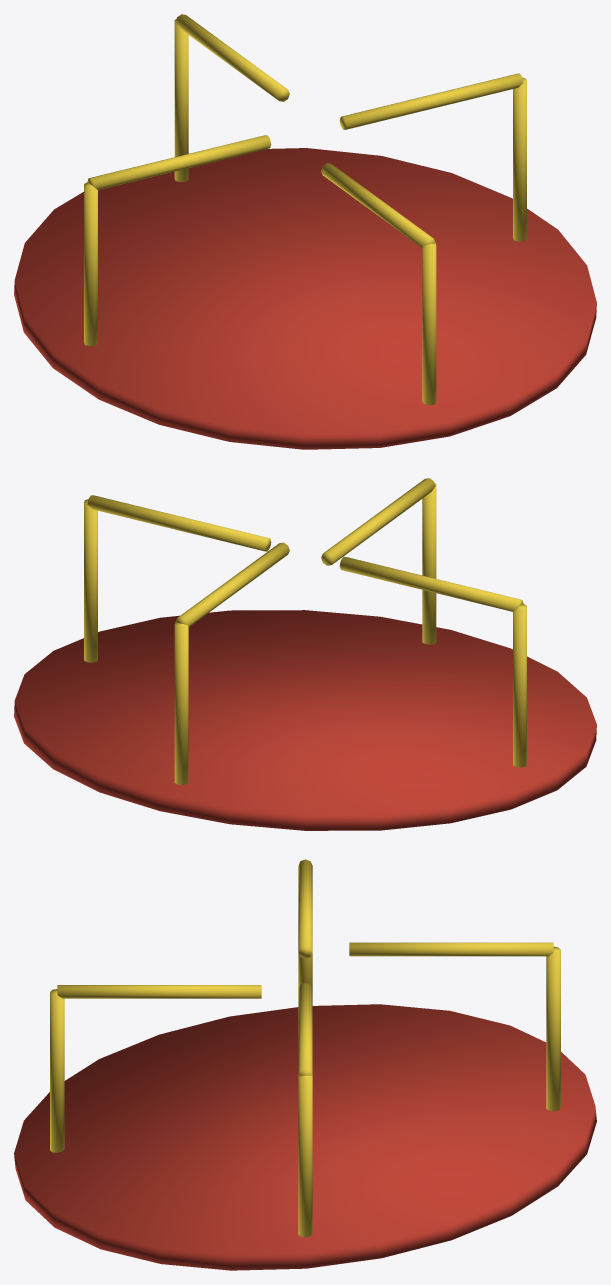
Rendered from hood_merry.glb.
3 renders of one model, top to bottom at view 1: azimuth 30°, elevation 25°; view 2: azimuth 150°, elevation 25°; view 3: azimuth 270°, elevation 25°, orthographic.
Visible parts, largest first — view 1: plate, bar; view 2: plate, bar; view 3: plate, bar.
Boxes of the visible parts, left/top/right/bottom form: plate: left=14, top=148, right=596, bottom=449; bar: left=84, top=14, right=526, bottom=405; plate: left=14, top=610, right=596, bottom=830; bar: left=84, top=478, right=526, bottom=784; plate: left=14, top=1004, right=596, bottom=1270; bar: left=50, top=859, right=560, bottom=1237.
Size of the model in its own units: 2 by 1.04 by 2.
